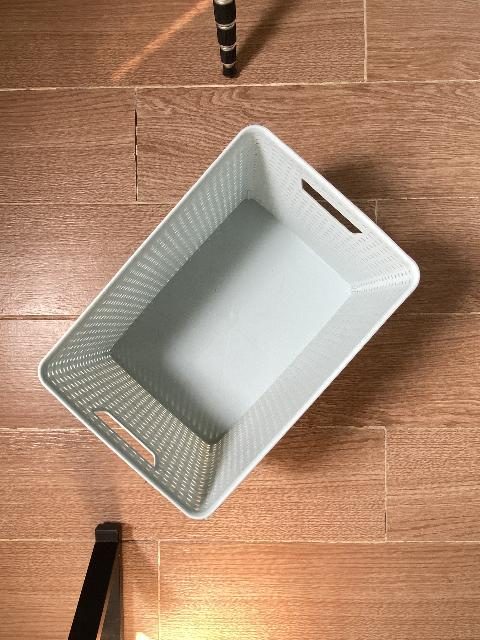cart: (37, 125, 420, 522)
